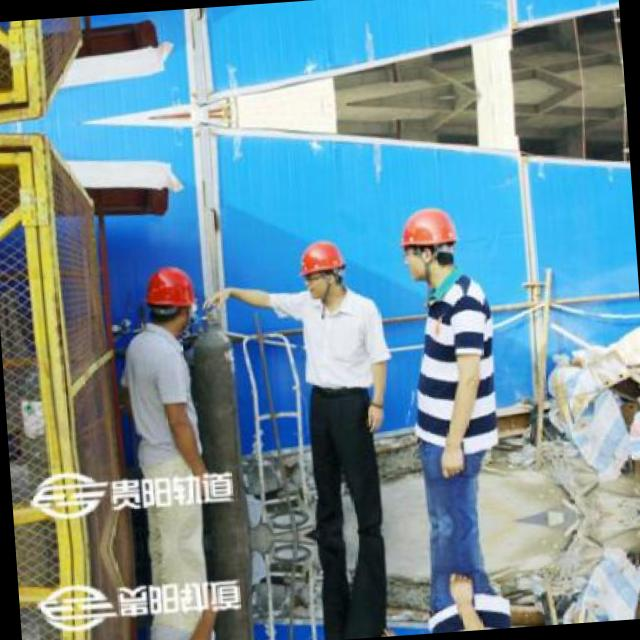helmet: (394, 195, 464, 287), (138, 258, 196, 338), (292, 232, 350, 306)
